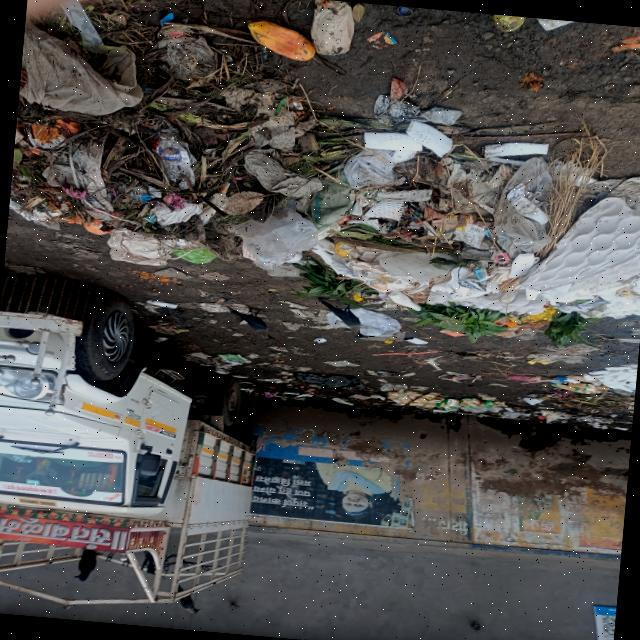garbage: (6, 0, 333, 276), (316, 118, 640, 341), (382, 348, 636, 432)
